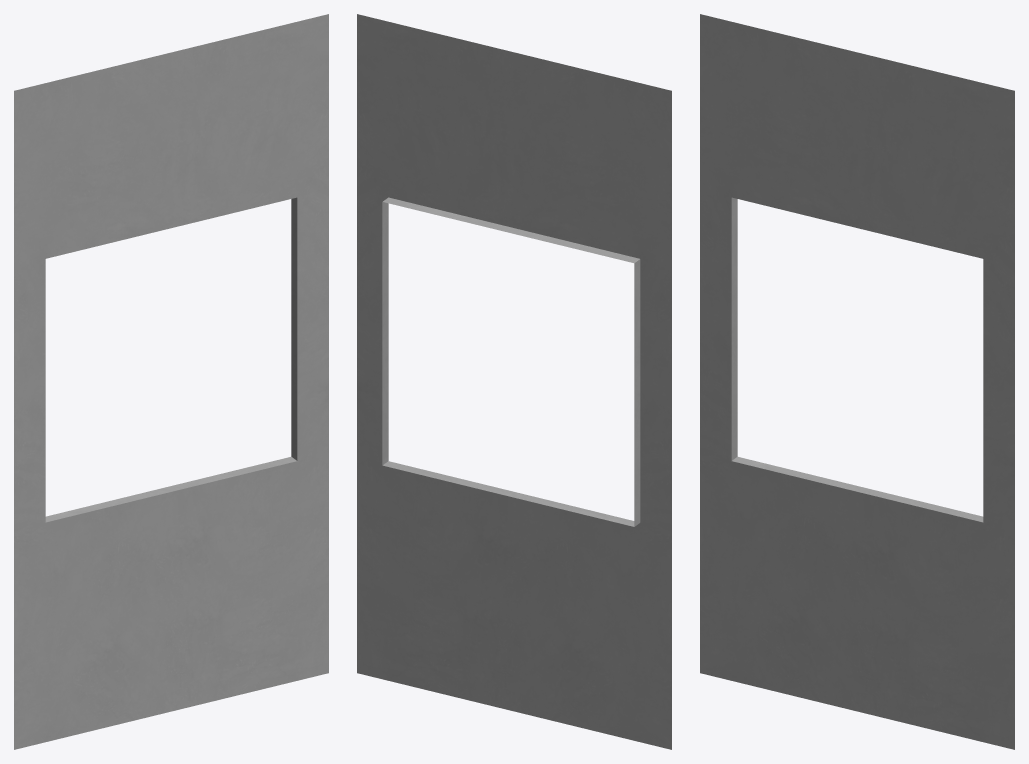
The model's file is Wall_150_Window_Large.FBX.
3 renders of one model, left to right at view 1: azimuth 30°, elevation 25°; view 2: azimuth 150°, elevation 25°; view 3: azimuth 330°, elevation 25°, orthographic.
Parts seen in each view (by area): view 1: Wall_150_Window_Large; view 2: Wall_150_Window_Large; view 3: Wall_150_Window_Large.
Part boxes in pixels (x1,y1,x2,y2): Wall_150_Window_Large: [14, 14, 328, 749]; Wall_150_Window_Large: [357, 14, 671, 749]; Wall_150_Window_Large: [700, 14, 1014, 749].
Bounding box in the file's own units: 150 × 300 × 5.
